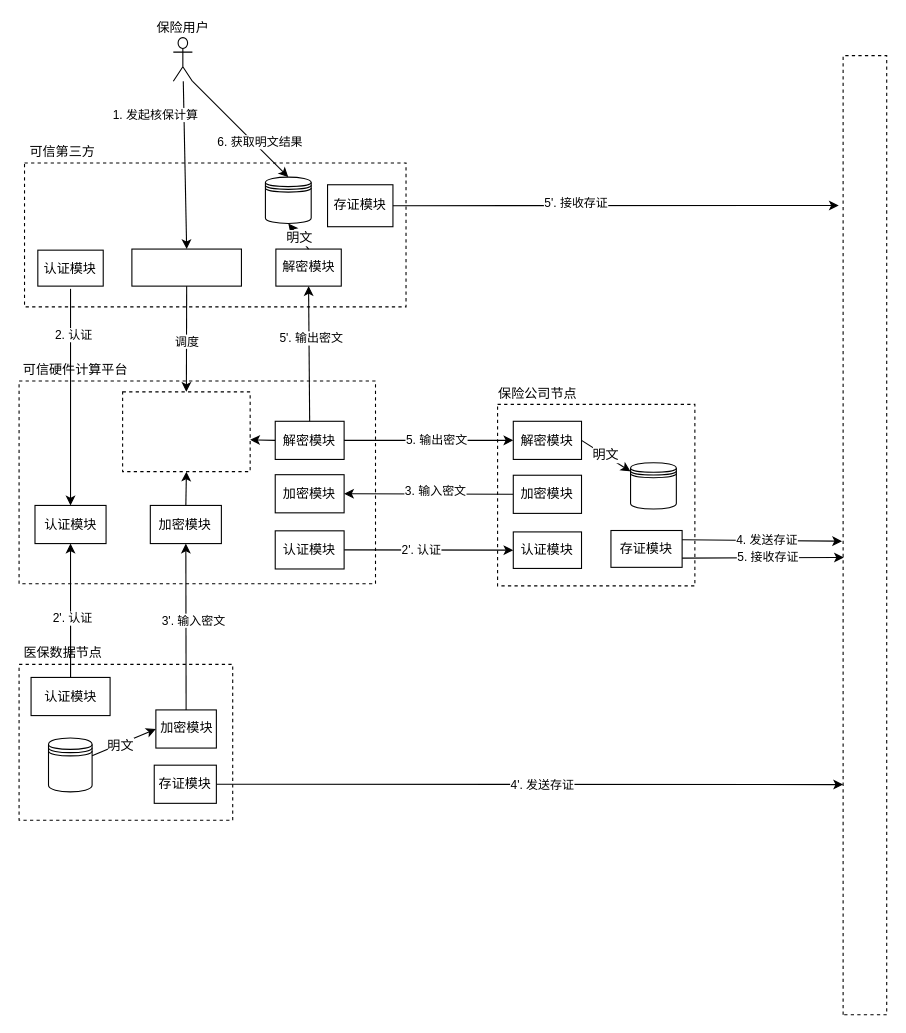
Image size: 906x1033. Some labels were removed from this diagram. The shapes that lost their labels are listed below. From the top down, each one's centre as x and y in pixels, then its label:
point 186,267: 任务调度模块
point 186,431: TEE可信计算环境
point 864,535: 分布式存储服务（存证记录）
